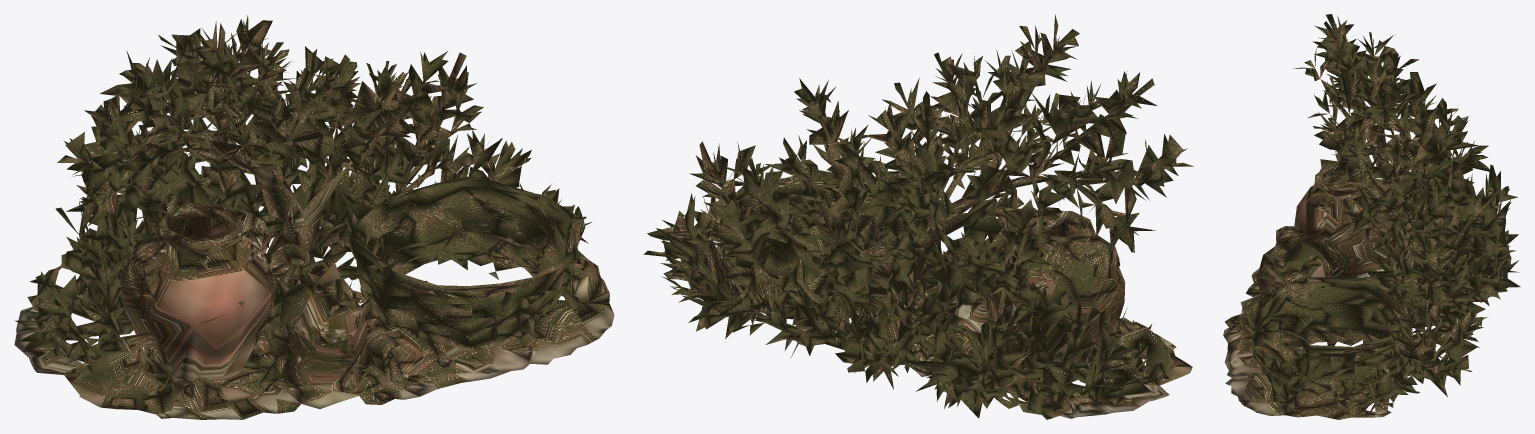
The model's file is olive-basket-cluster-b.glb.
The picture shows the model from 3 angles, left to right: view 1: azimuth 30°, elevation 25°; view 2: azimuth 150°, elevation 25°; view 3: azimuth 270°, elevation 25°; orthographic projection. The views are drawn at different scales.
Visible parts, largest first — view 1: geometry_0; view 2: geometry_0; view 3: geometry_0.
Part boxes in pixels (left/top/right/bottom): geometry_0: left=14, top=15, right=614, bottom=419; geometry_0: left=643, top=14, right=1193, bottom=419; geometry_0: left=1223, top=14, right=1520, bottom=419.
Bounding box in the file's own units: 1.88 × 1.15 × 1.16.
1 material, 1 textured.
